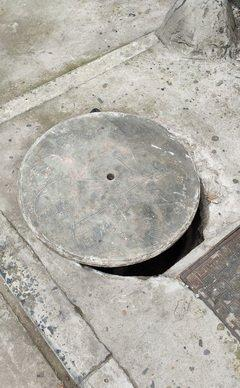wellcover: (13, 113, 218, 279)
